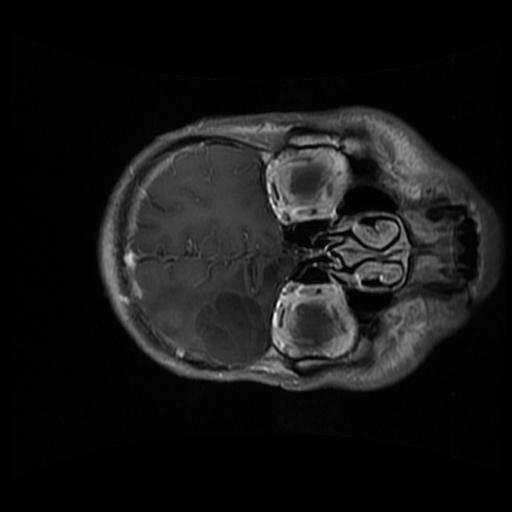glioma: (192, 289, 268, 366)
